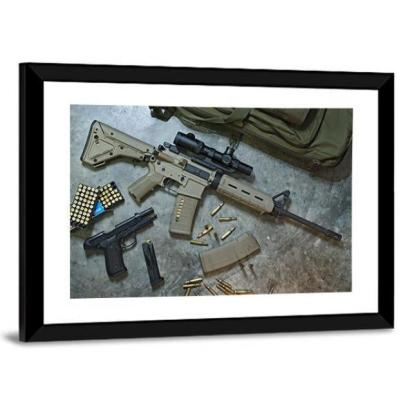Gun: (77, 119, 342, 246), (84, 206, 158, 281)
